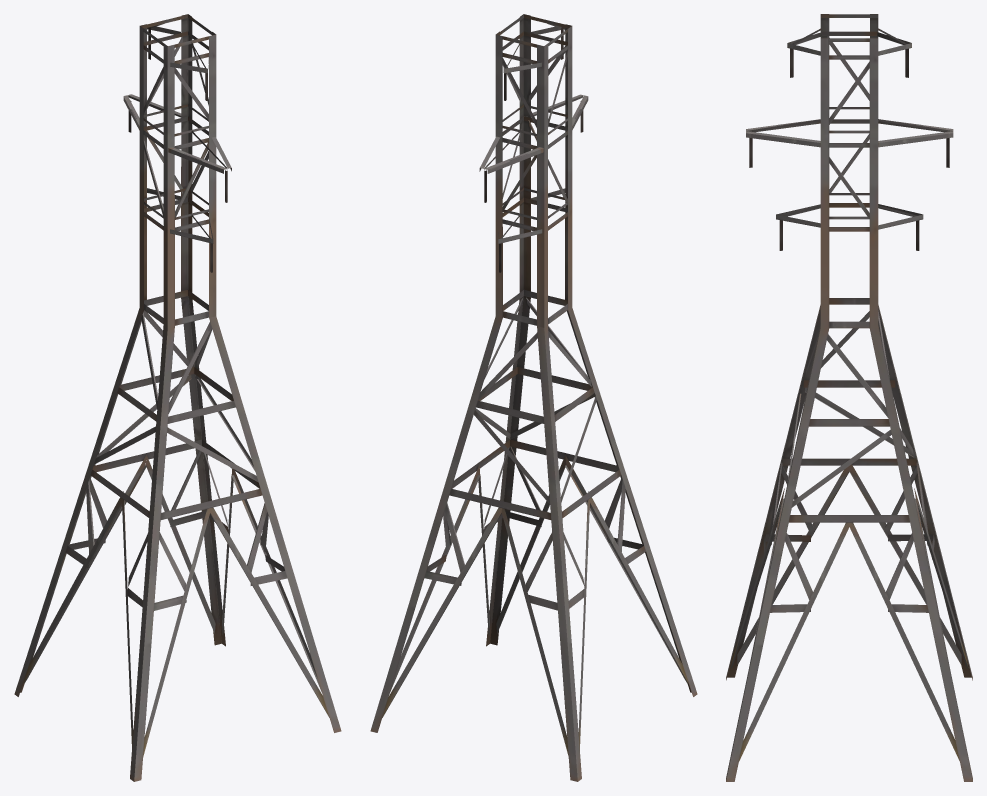
3 views of the same model, side by side, from view 1: azimuth 30°, elevation 25°; view 2: azimuth 150°, elevation 25°; view 3: azimuth 270°, elevation 25° (orthographic). The views are drawn at different scales.
Parts seen in each view (by area): view 1: body0_model0_lod0_mesh0; view 2: body0_model0_lod0_mesh0; view 3: body0_model0_lod0_mesh0.
Part boxes in pixels (<box>): body0_model0_lod0_mesh0: <box>14,14,341,781</box>; body0_model0_lod0_mesh0: <box>370,14,697,781</box>; body0_model0_lod0_mesh0: <box>726,14,972,781</box>.
Bounding box in the file's own units: 38.36 × 121 × 38.36.
Materials: 1 (1 with a texture image).
